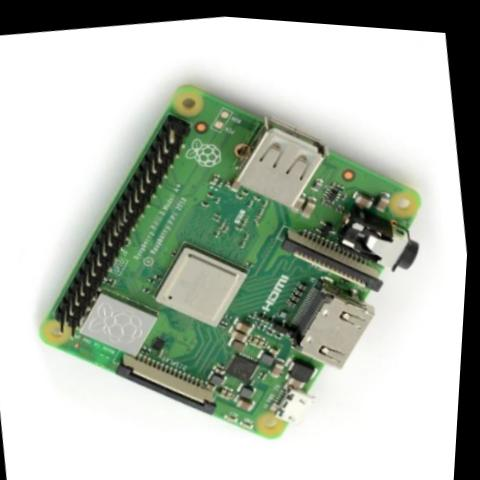Raspberry-Pi-3-Model-A-: (0, 29, 472, 480)
